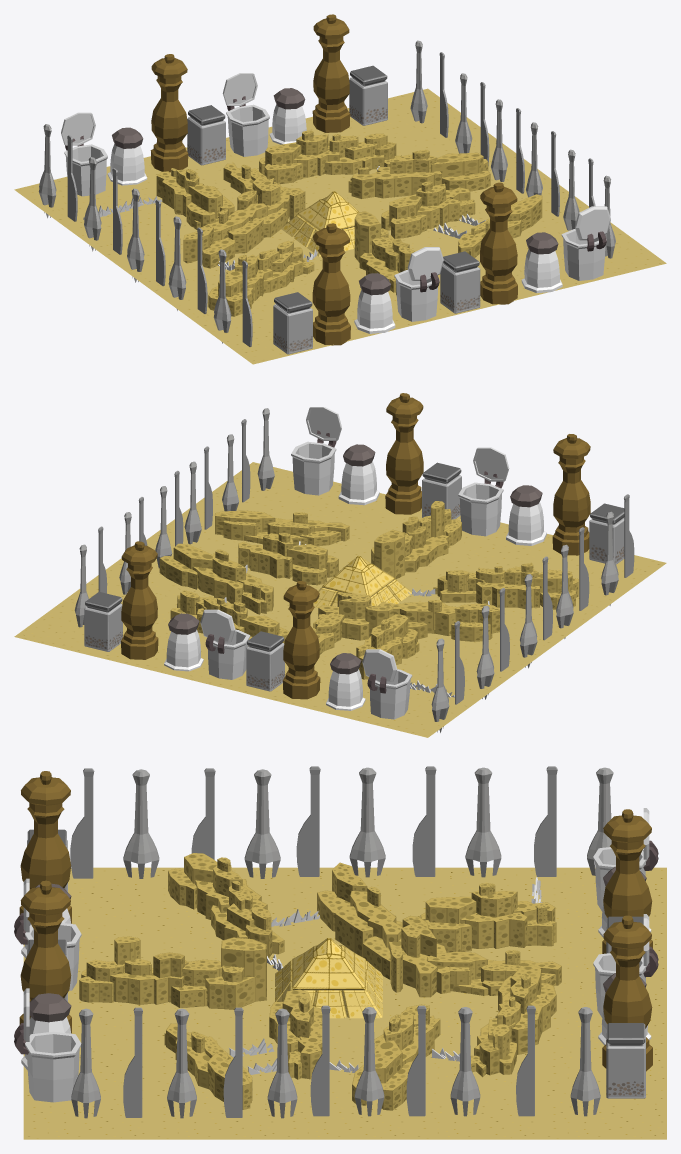
File: LV03Hank.fbx
3 renders of one model, top to bottom at view 1: azimuth 30°, elevation 25°; view 2: azimuth 150°, elevation 25°; view 3: azimuth 270°, elevation 25°, orthographic. The views are drawn at different scales.
Visible parts, largest first — view 1: Plane.001, Black_pepper_2.004, Black_pepper_2.003, Black_pepper_2.002, Black_pepper_2, papper.002, papper.003, papper.001, papper, Black_pepper_1.004, Black_pepper_1.003, Cube.124 (+55 smaller); view 2: Plane.001, Black_pepper_2.003, Black_pepper_2, Black_pepper_2.002, Black_pepper_2.004, papper.001, papper, Cube.130, Cube.134, Black_pepper_1.003, Black_pepper_1.004, Black_pepper_1 (+51 smaller); view 3: Plane.001, Black_pepper_2.003, Black_pepper_2.004, Black_pepper_2.002, Black_pepper_2, Cube.130, Cube.074, papper.001, Cube.149, Cube.154, Cube.147, Cube.156 (+62 smaller).
Part boxes in pixels (x1,y1,x2,y2): Plane.001: (14, 88, 666, 364); Black_pepper_2.004: (312, 223, 350, 345); Black_pepper_2.003: (480, 182, 517, 304); Black_pepper_2.002: (312, 14, 350, 132); Black_pepper_2: (150, 54, 188, 172); papper.002: (440, 251, 480, 313); papper.003: (273, 292, 312, 354); papper.001: (349, 65, 387, 125); papper: (187, 105, 225, 165); Black_pepper_1.004: (354, 273, 395, 333); Black_pepper_1.003: (521, 232, 562, 293); Cube.124: (351, 171, 441, 198); Plane.001: (14, 462, 666, 737); Black_pepper_2.003: (385, 393, 423, 514); Black_pepper_2: (283, 581, 320, 699); Black_pepper_2.002: (121, 541, 158, 659); Black_pepper_2.004: (552, 434, 590, 555); papper.001: (84, 591, 122, 651); papper: (246, 631, 284, 691); Cube.130: (291, 441, 336, 495); Cube.134: (458, 482, 503, 536); Black_pepper_1.003: (338, 444, 379, 505); Black_pepper_1.004: (506, 485, 546, 545); Black_pepper_1: (326, 653, 365, 710); Plane.001: (23, 867, 666, 1139); Black_pepper_2.003: (19, 880, 71, 1033); Black_pepper_2.004: (19, 771, 71, 923); Black_pepper_2.002: (602, 915, 652, 1071); Black_pepper_2: (602, 809, 652, 953); Cube.130: (25, 1031, 81, 1102); Cube.074: (292, 938, 365, 990); papper.001: (606, 1023, 645, 1098); Cube.149: (465, 767, 501, 877); Cube.154: (123, 769, 159, 878); Cube.147: (349, 767, 385, 877); Cube.156: (244, 769, 280, 878).
Bounding box in the file's own units: 7111 × 2101 × 7219.
